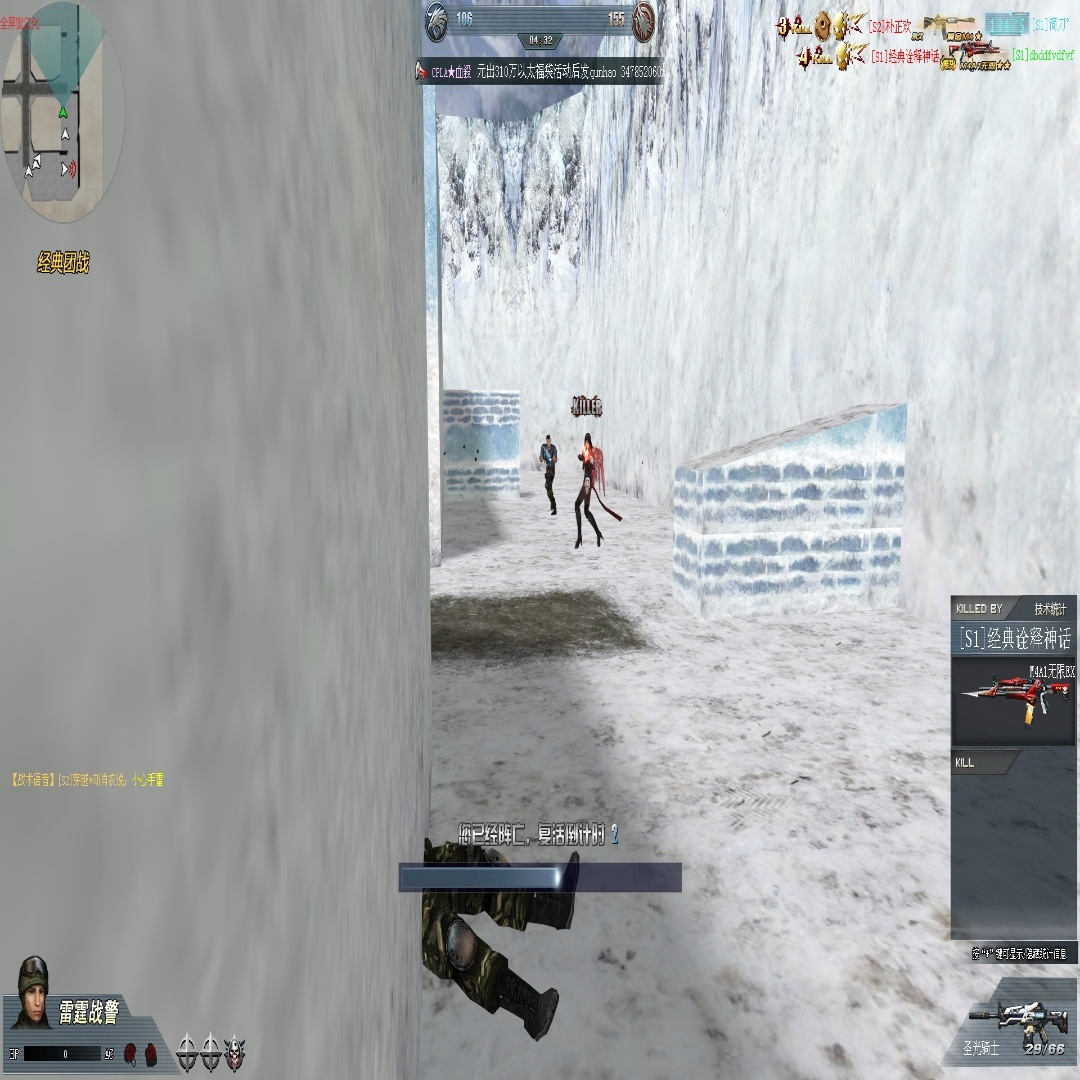t: (576, 430, 601, 550), (538, 432, 559, 516)
